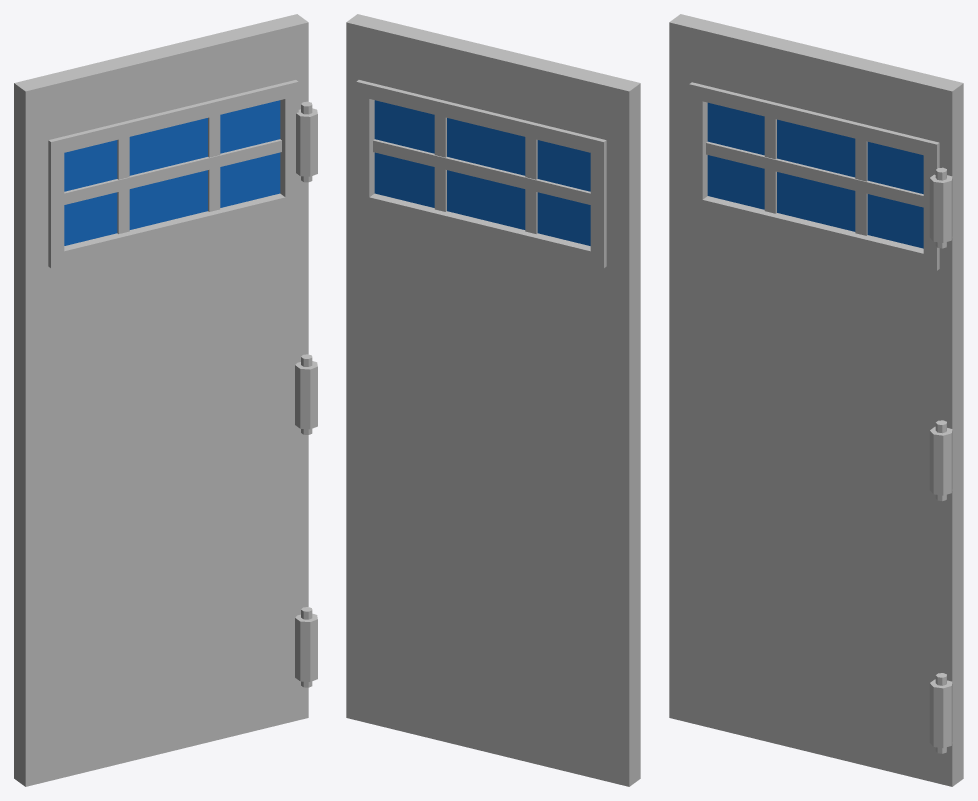
File: SM_huge_door.fbx
3 views of the same model, side by side, from view 1: azimuth 30°, elevation 25°; view 2: azimuth 150°, elevation 25°; view 3: azimuth 330°, elevation 25° (orthographic).
Parts seen in each view (by area): view 1: Cube_2; view 2: Cube_2; view 3: Cube_2.
Boxes of the visible parts, x1=… form: Cube_2: x1=14, y1=14, x2=317, y2=786; Cube_2: x1=346, y1=14, x2=640, y2=786; Cube_2: x1=669, y1=14, x2=963, y2=786.
Bounding box in the file's own units: 160 × 370 × 23.53.
